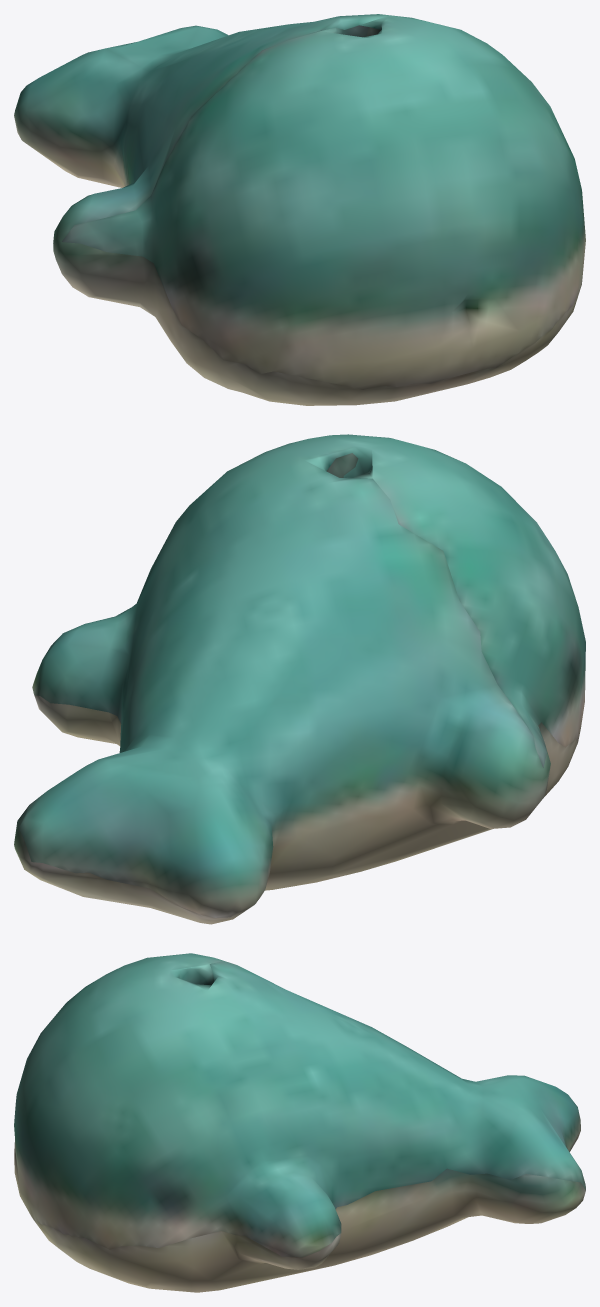
File: WHALE_WHISTLE_6PCS_SET-medium.glb
3 renders of one model, top to bottom at view 1: azimuth 30°, elevation 25°; view 2: azimuth 150°, elevation 25°; view 3: azimuth 270°, elevation 25°, orthographic. The views are drawn at different scales.
Visible parts, largest first — view 1: WHALE_WHISTLE_6PCS_SET; view 2: WHALE_WHISTLE_6PCS_SET; view 3: WHALE_WHISTLE_6PCS_SET.
Part boxes in pixels (x1,y1,x2,y2): WHALE_WHISTLE_6PCS_SET: [14, 14, 585, 405]; WHALE_WHISTLE_6PCS_SET: [14, 434, 585, 924]; WHALE_WHISTLE_6PCS_SET: [14, 953, 585, 1292].
Bounding box in the file's own units: 0.0583 × 0.0379 × 0.0733.
Materials: 1 (1 with a texture image).
